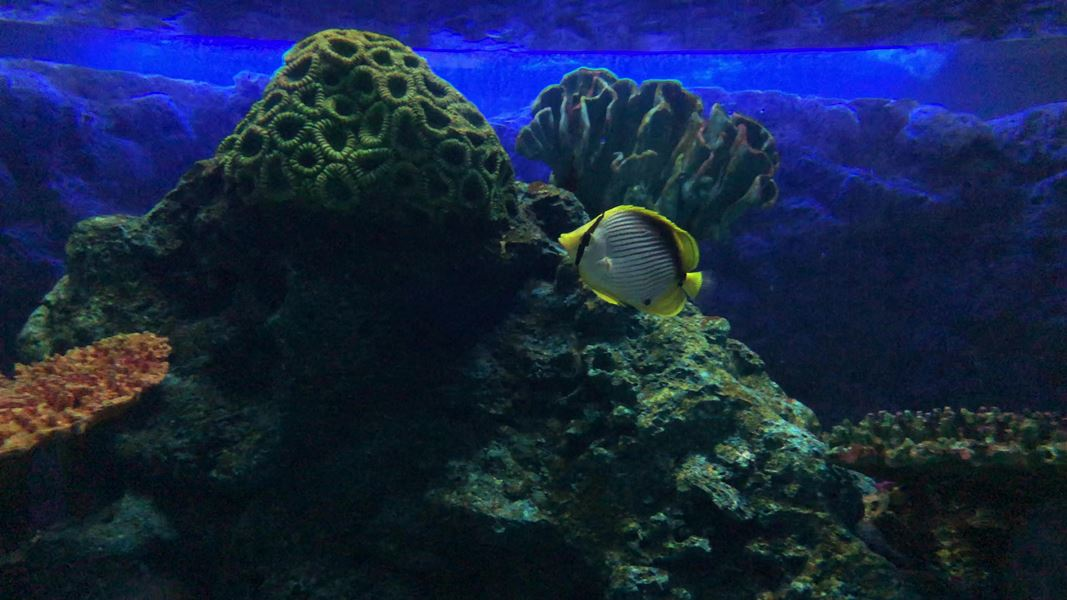Black-backed butterflyfish: (550, 199, 728, 328)
